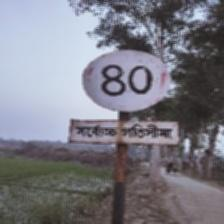Speed-limit: (71, 49, 177, 147)
